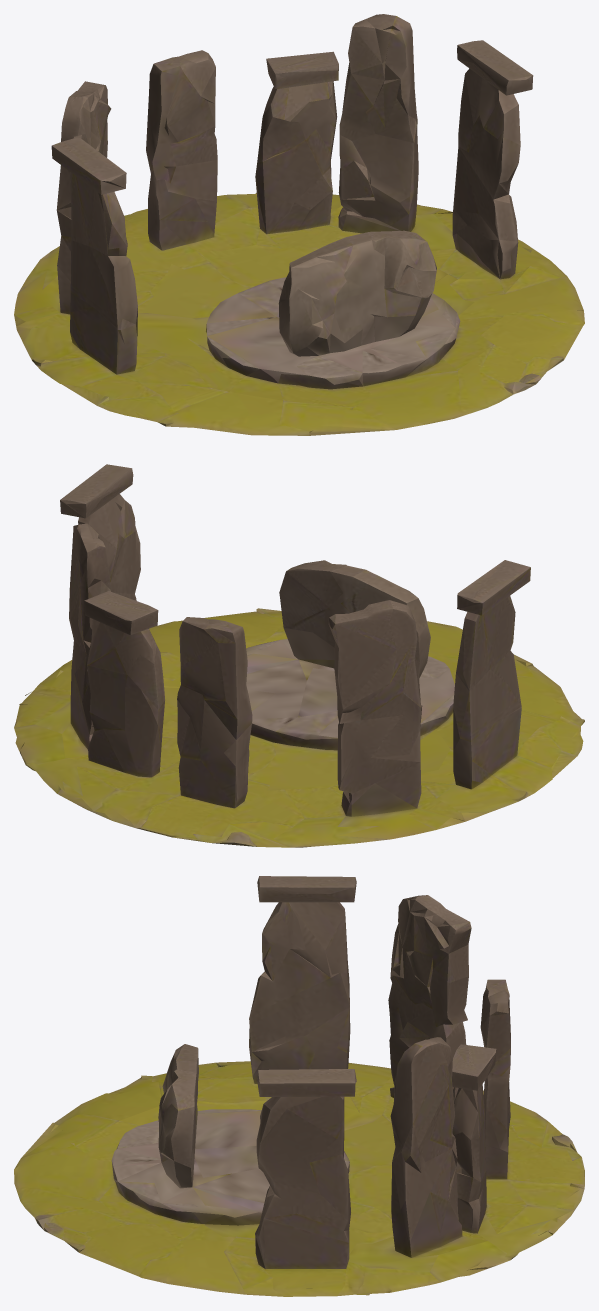
The picture shows the model from 3 angles, top to bottom: view 1: azimuth 30°, elevation 25°; view 2: azimuth 150°, elevation 25°; view 3: azimuth 270°, elevation 25°; orthographic projection. The views are drawn at different scales.
Bounding box in the file's own units: 1.87 × 0.7746 × 1.9.
Materials: 1 (1 with a texture image).
